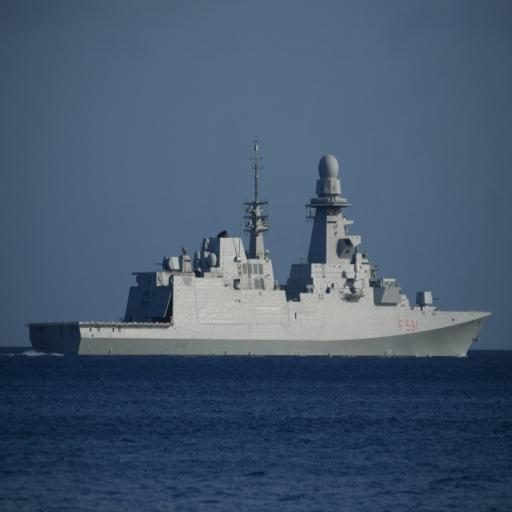Fragata: (31, 133, 494, 365)
